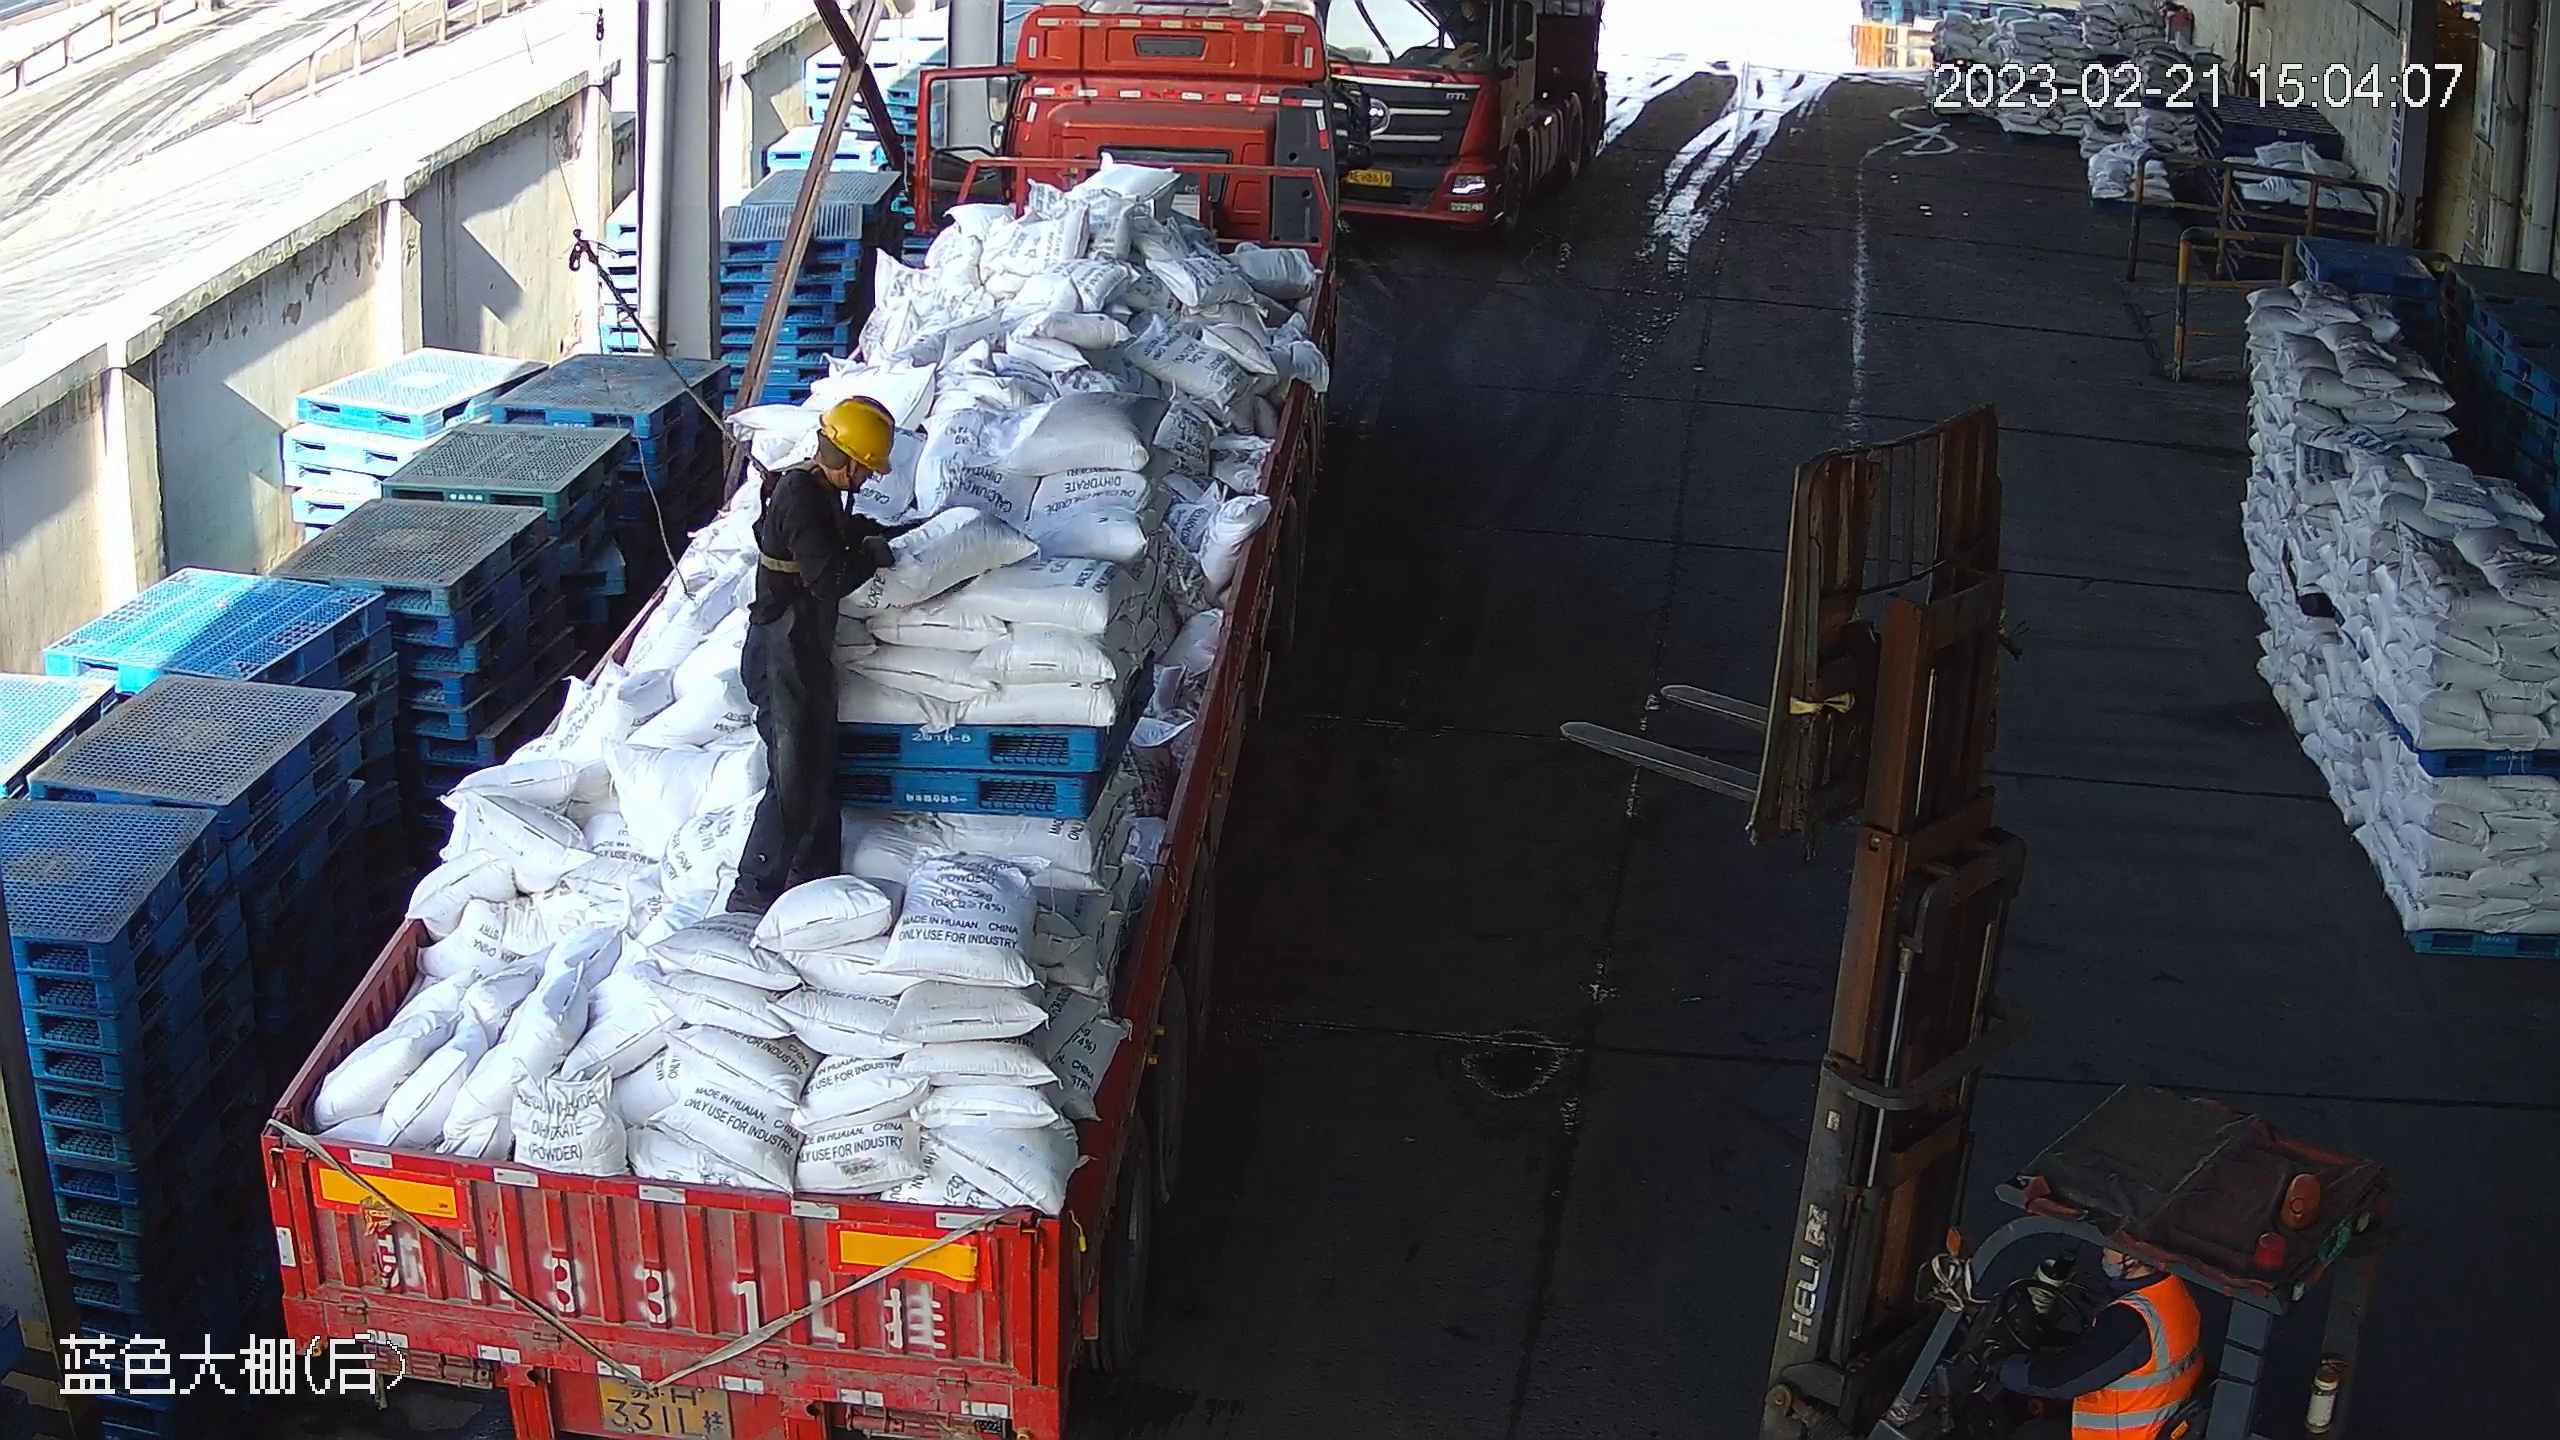belt: (733, 447, 848, 577)
head: (750, 391, 896, 524), (2087, 1244, 2190, 1358)
helmet: (818, 394, 896, 476)
people: (725, 393, 894, 916)
truck: (255, 1, 1344, 1440), (1305, 1, 1636, 208)
